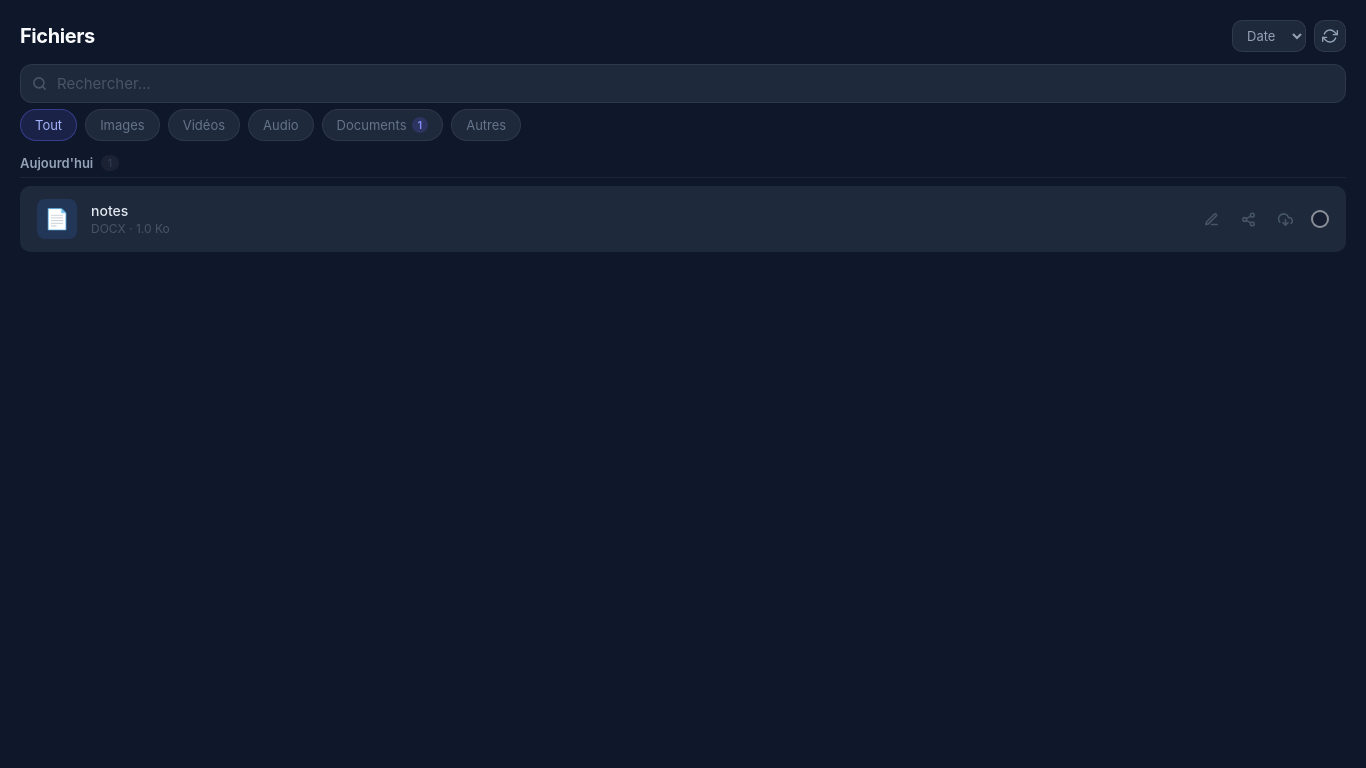
Test: TimelineView › remaining coverage: secondary buttons, error paths, swipe, day labels › selects a doc-list item via its own checkbox
Click the element with class "doc-checkbox": (1320, 219) [1311, 210, 1329, 228]
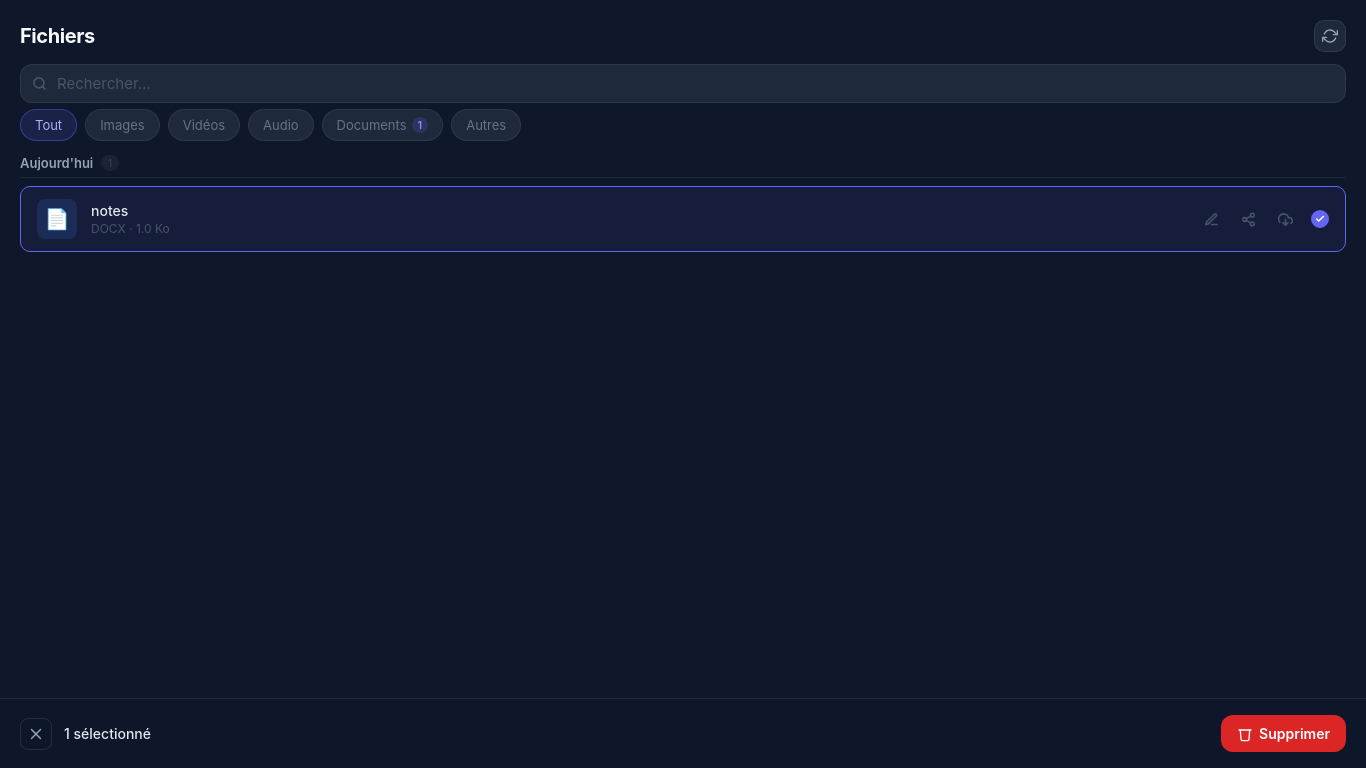
Check: the text "1 sélectionné" is shown, box [64, 725, 151, 742]
